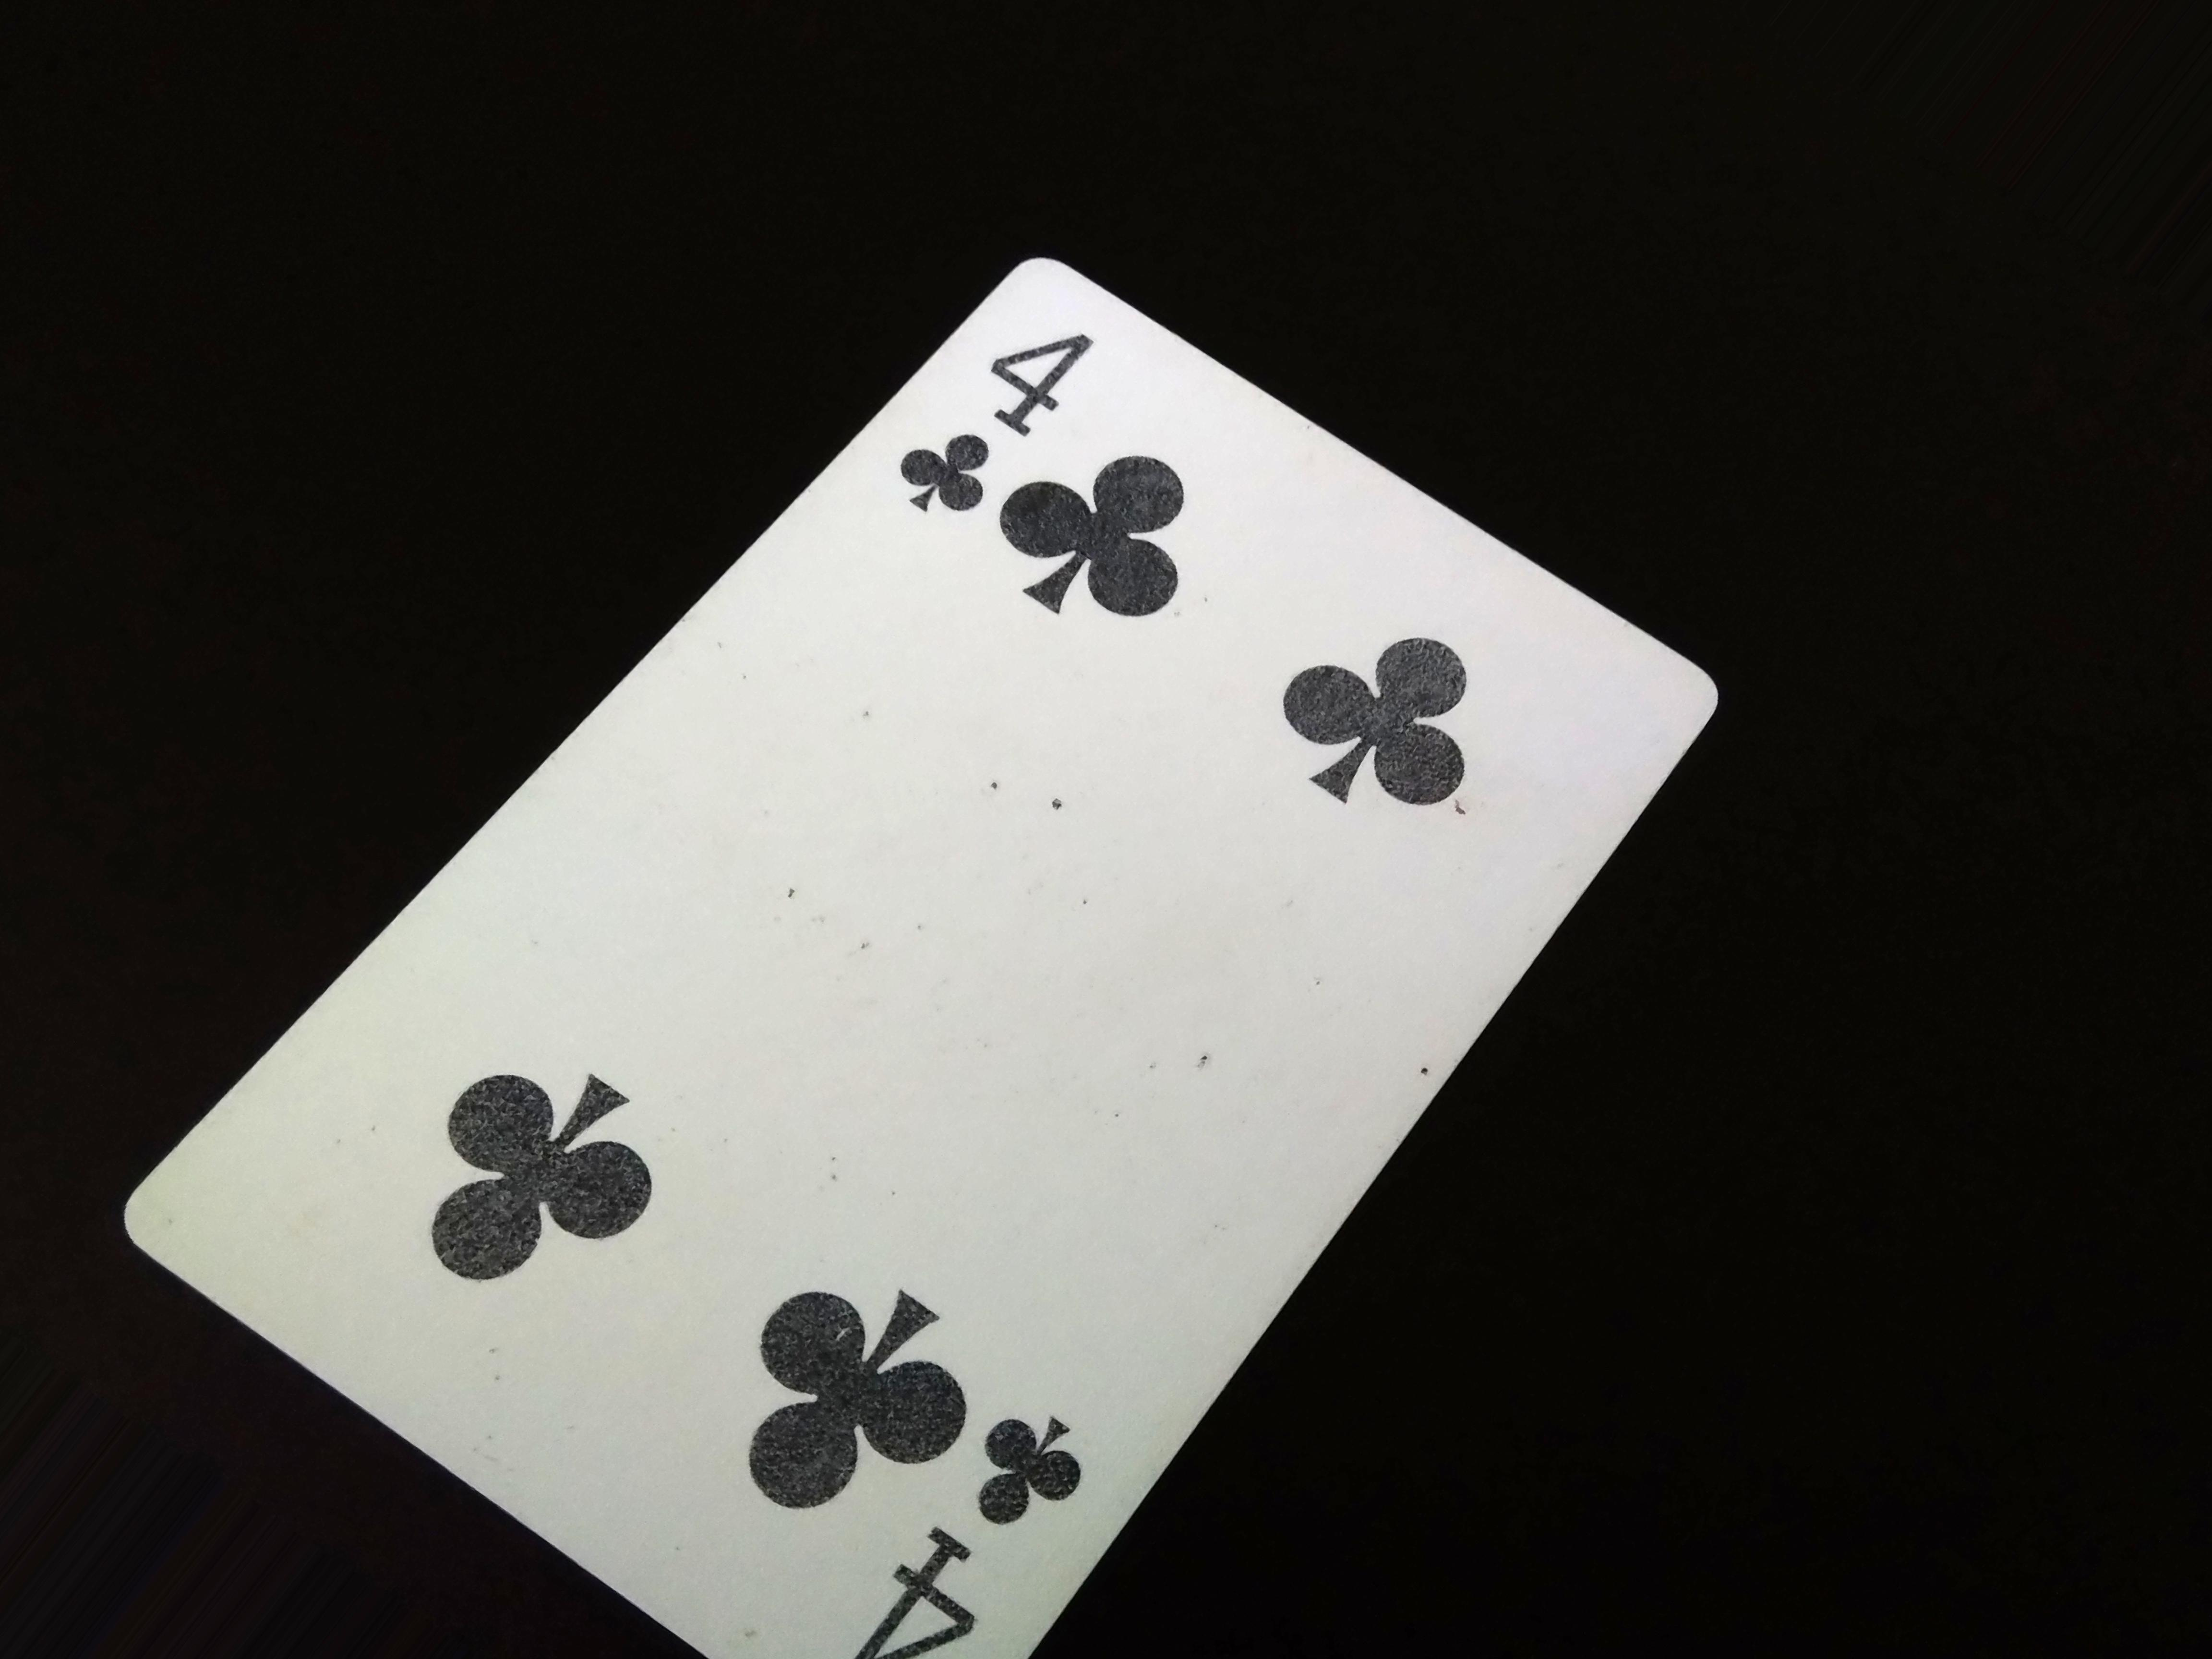4C: (880, 295, 1103, 530)
